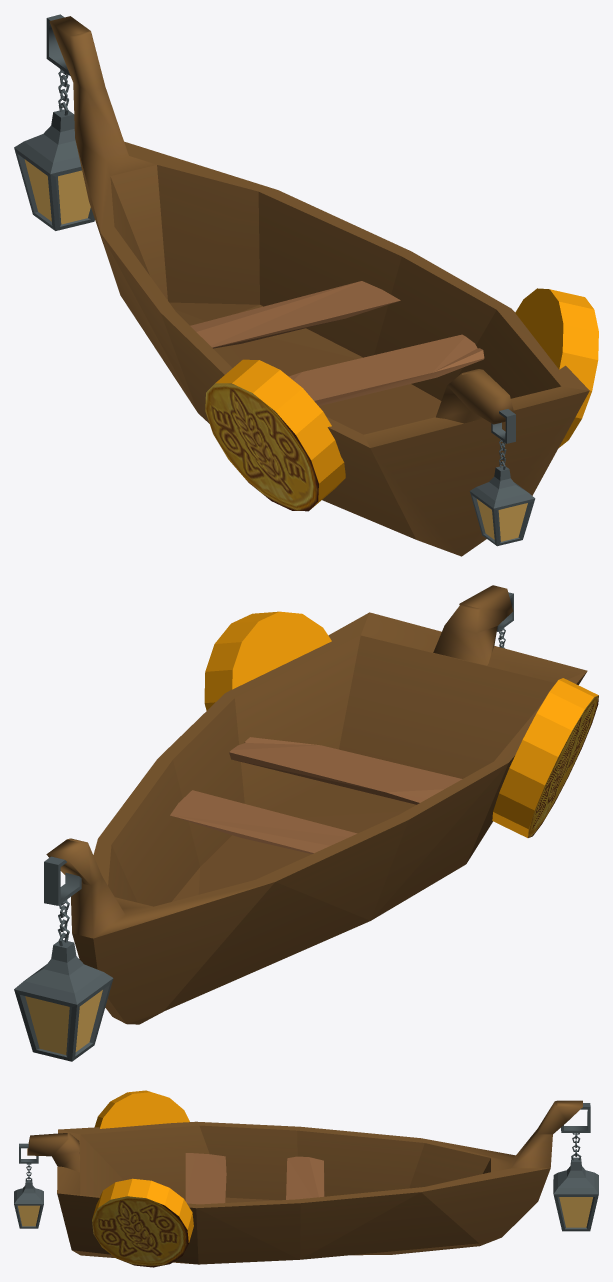
The model's file is Boat01.fbx.
3 views of the same model, one above another, from view 1: azimuth 30°, elevation 25°; view 2: azimuth 150°, elevation 25°; view 3: azimuth 270°, elevation 25° (orthographic). The views are drawn at different scales.
Visible parts, largest first — view 1: Boat; view 2: Boat; view 3: Boat.
Part boxes in pixels (bbox=[...]): Boat: bbox=[14, 14, 598, 556]; Boat: bbox=[14, 585, 598, 1061]; Boat: bbox=[14, 1090, 598, 1267].
Size of the model in its own units: 164 by 372 by 106.
